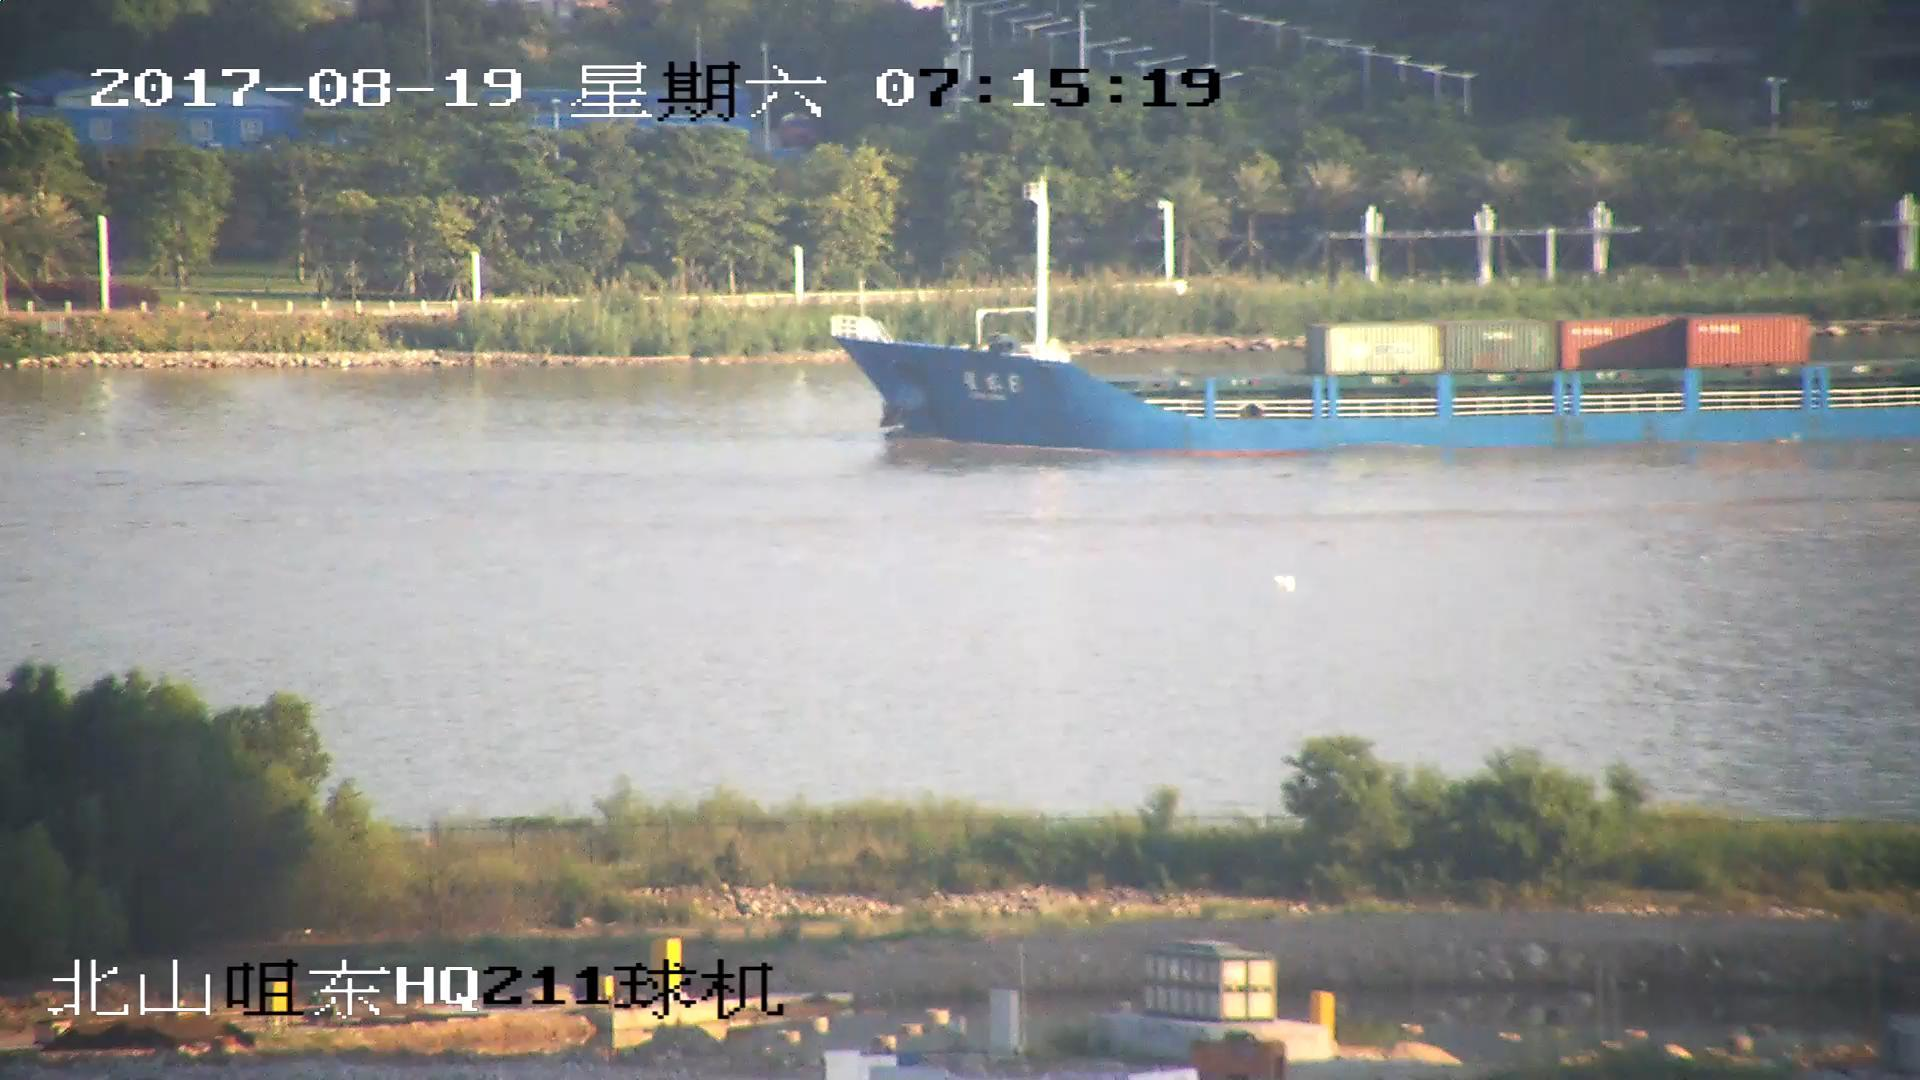Ship: (831, 185, 1920, 459)
